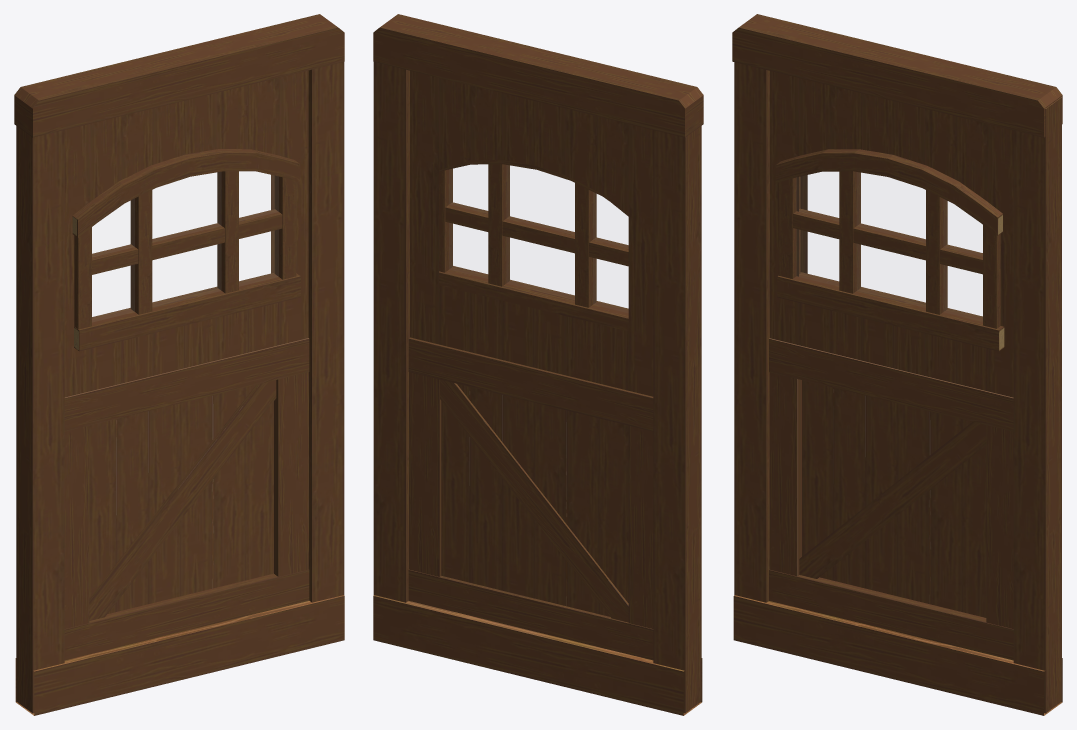
The model's file is Door_1_Flat.glb.
The picture shows the model from 3 angles, left to right: view 1: azimuth 30°, elevation 25°; view 2: azimuth 150°, elevation 25°; view 3: azimuth 330°, elevation 25°; orthographic projection.
Visible parts, largest first — view 1: Door_1_Flat; view 2: Door_1_Flat; view 3: Door_1_Flat.
Part boxes in pixels (<box>): Door_1_Flat: <box>14,14,344,715</box>; Door_1_Flat: <box>373,14,703,715</box>; Door_1_Flat: <box>732,14,1062,715</box>.
Bounding box in the file's own units: 1.12 × 2.1 × 0.1207.
2 materials, 1 textured.
